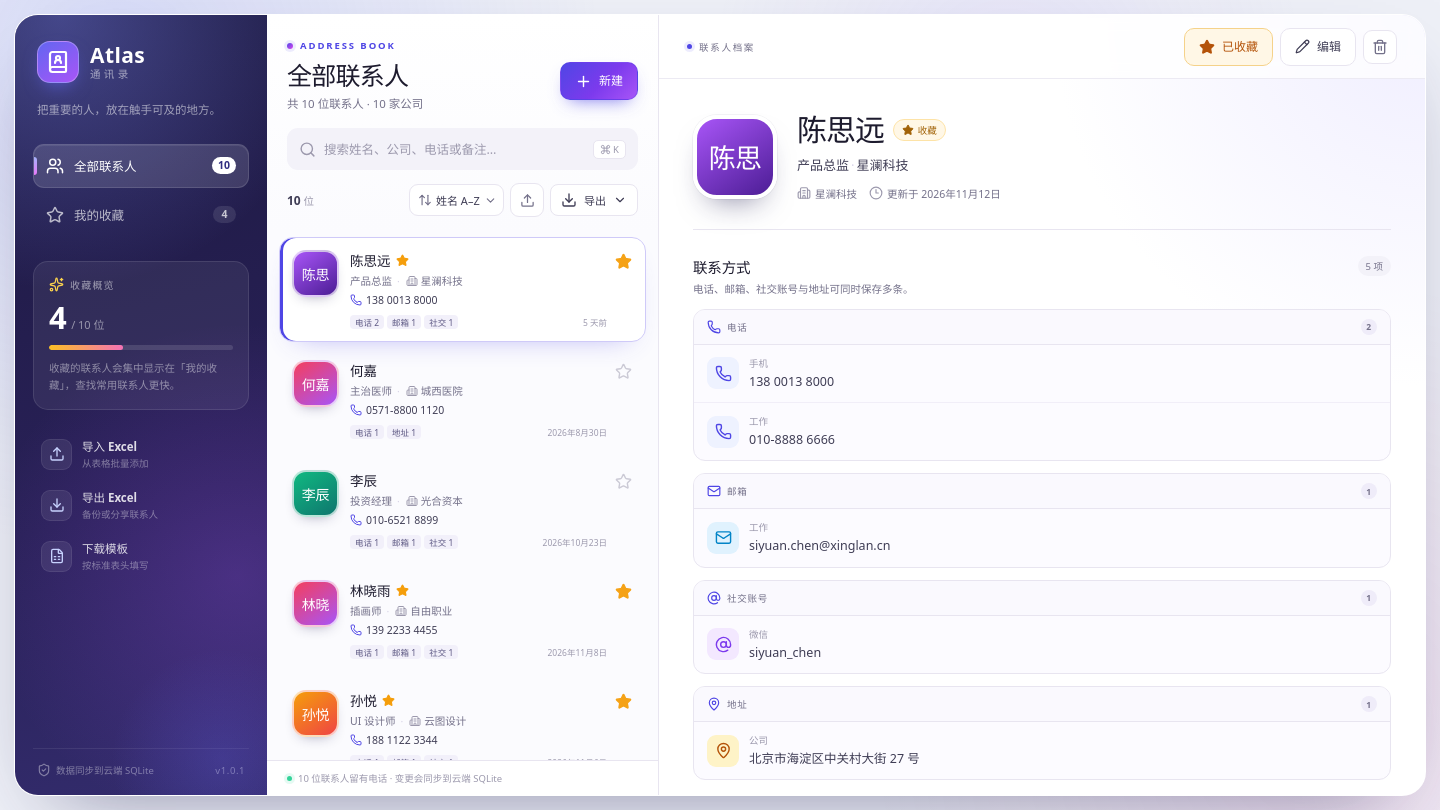
Test: Atlas address book › requires a name before creating a contact
The width and height of the screenshot is (1440, 810).
Click the button "新建".
click(599, 81)  # box [560,62,638,100]
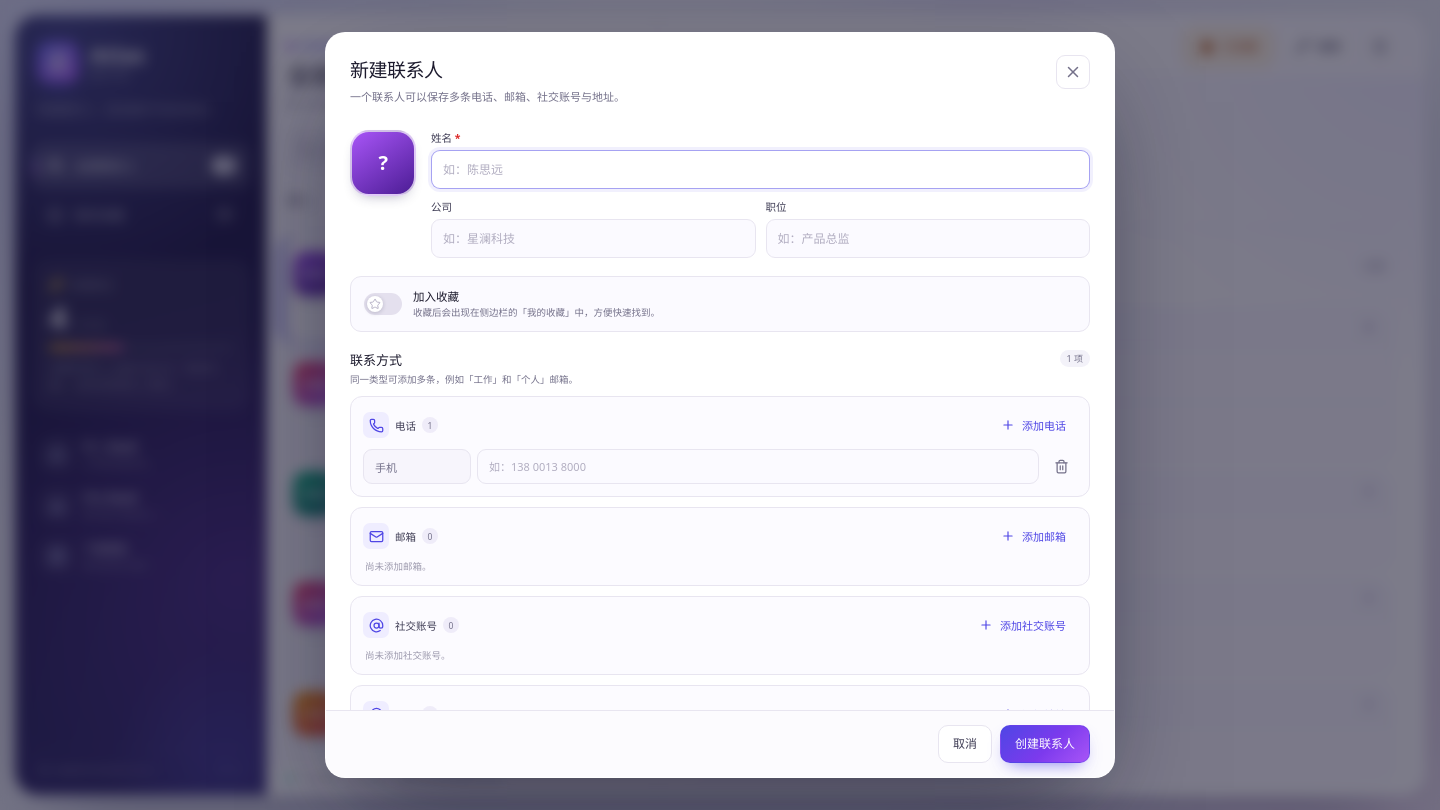
Click the button "创建联系人".
click(1045, 744)  # box [1000,725,1090,763]
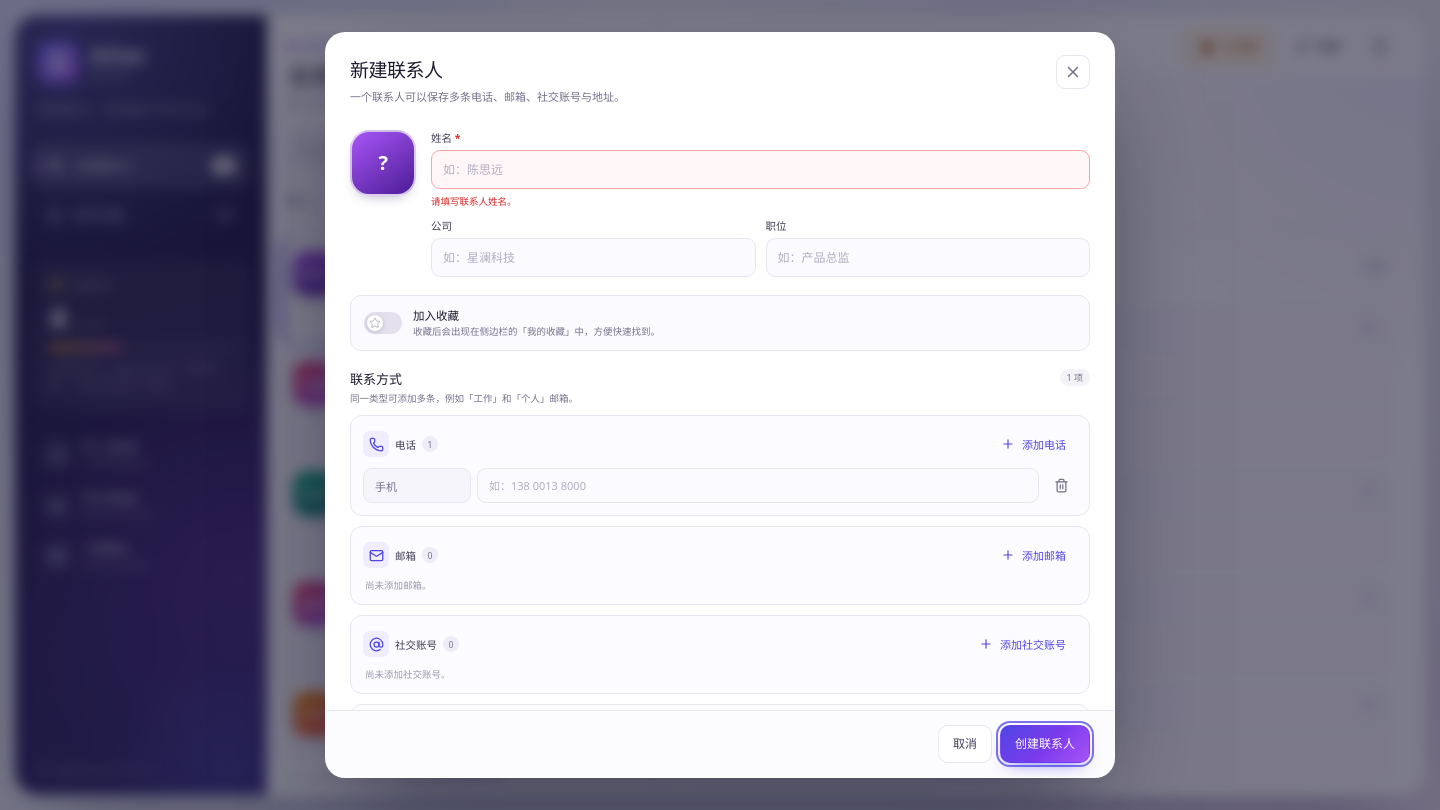
Check: the dialog is shown, box [325,32,1115,778]
Check: the text "请填写联系人姓名。" is shown, box [431,194,516,208]
